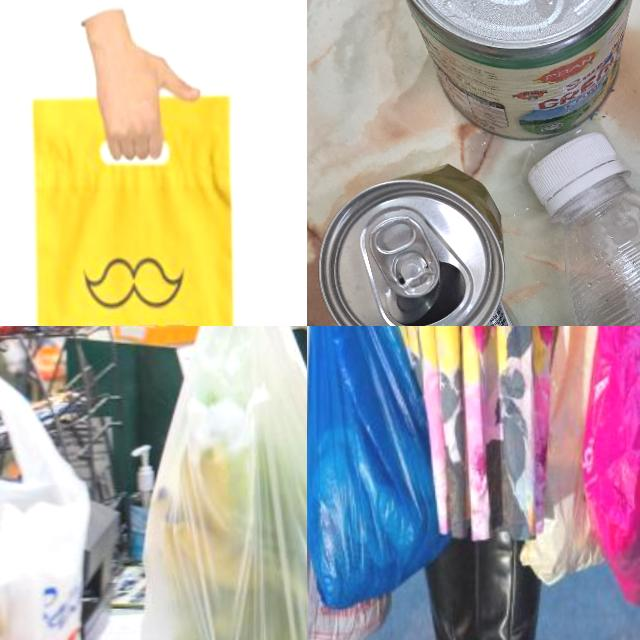aba de lata: (366, 214, 439, 296)
lata: (387, 0, 640, 144), (314, 162, 534, 326)
sacola plástica: (12, 82, 256, 326), (140, 326, 307, 640), (307, 326, 441, 640), (532, 326, 640, 616), (0, 364, 110, 640)
tampa plástica: (528, 133, 626, 209)
